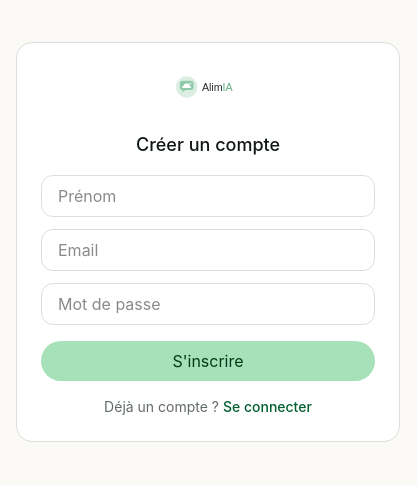
Test: affiche un message générique si le mot de passe est trop court
The width and height of the screenshot is (417, 485).
In the field with placeholder "Prénom": coordinates (208, 196) [41,175,375,217], type "Camille"
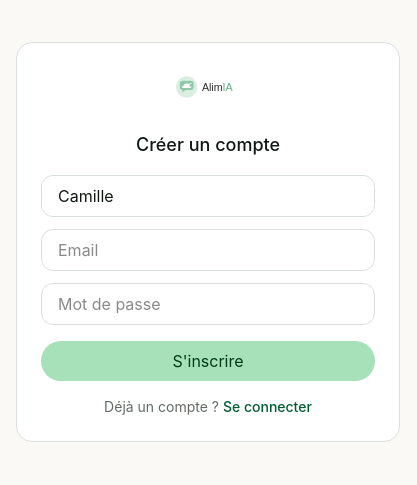
In the field with placeholder "Email": coordinates (208, 250) [41,229,375,271], type "camille@example.com"
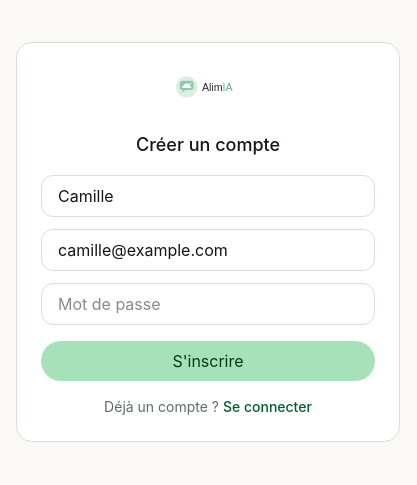
In the password field with placeholder "Mot de passe": coordinates (208, 304) [41,283,375,325], type "court"
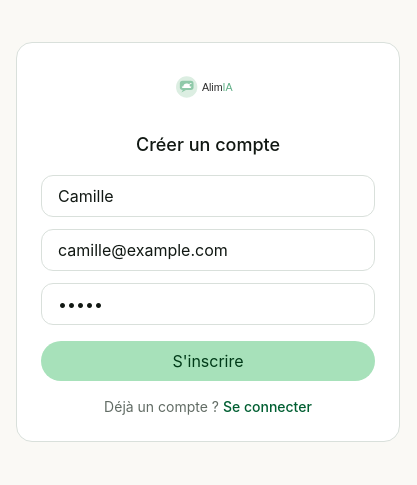
Click the button "S'inscrire": coordinates (208, 361) [41,341,375,381]
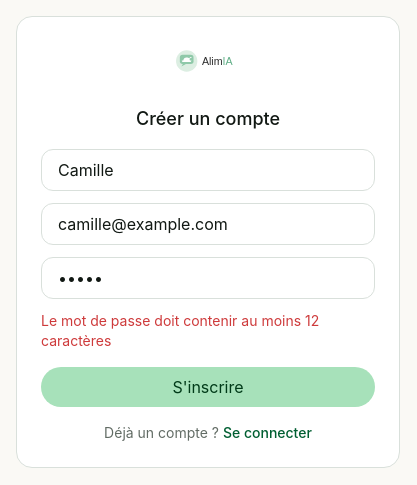
Result: the text "Le mot de passe doit contenir au moins 12 caractères" is shown at [41,312,319,349]
